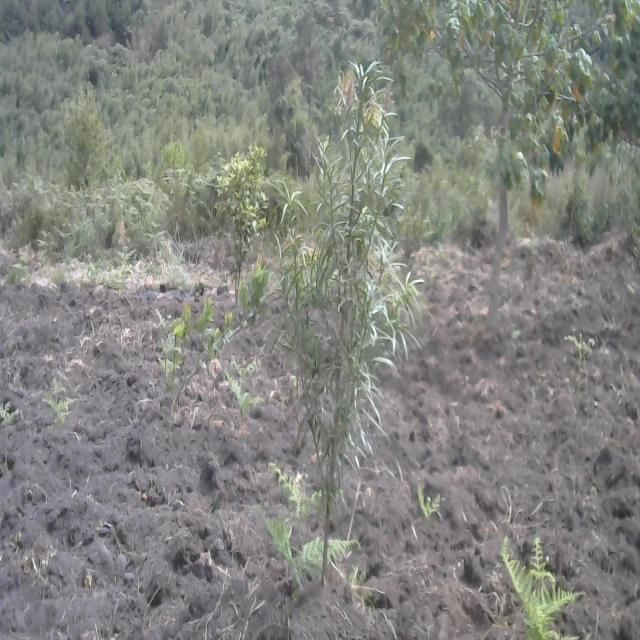Lemon Myrtle: (214, 154, 272, 286)
Podocarpus falcatus: (257, 38, 419, 612)
other: (385, 0, 630, 324)
